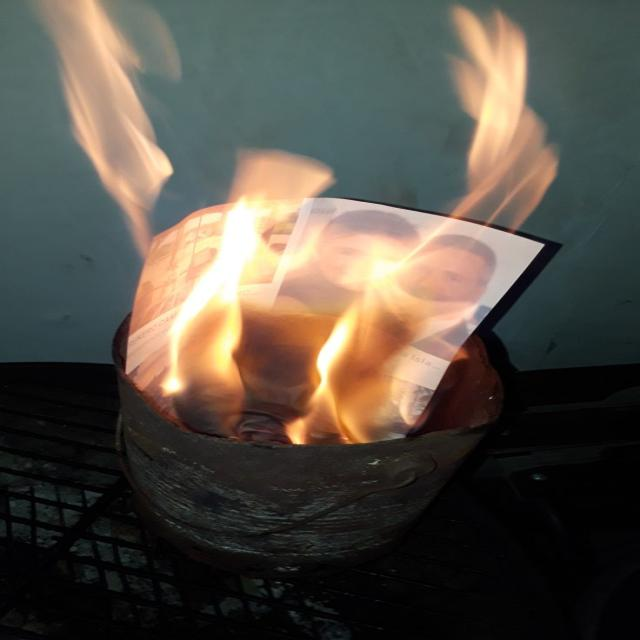fire: (42, 3, 552, 444)
